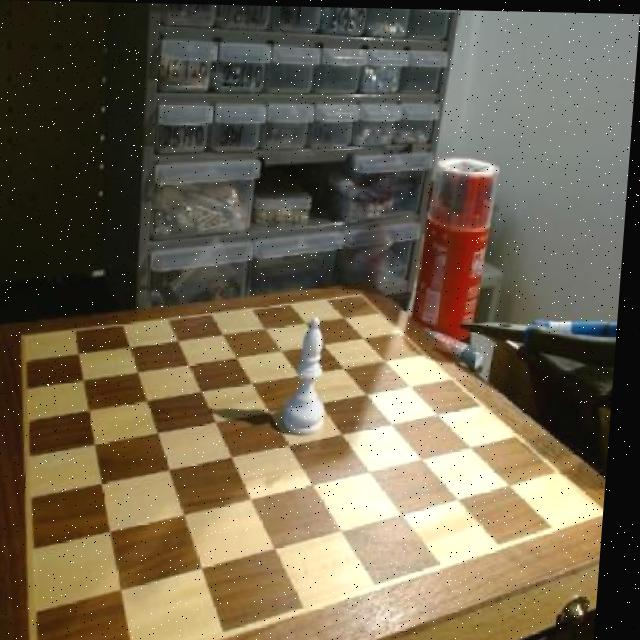black-rook: (289, 315, 340, 437)
